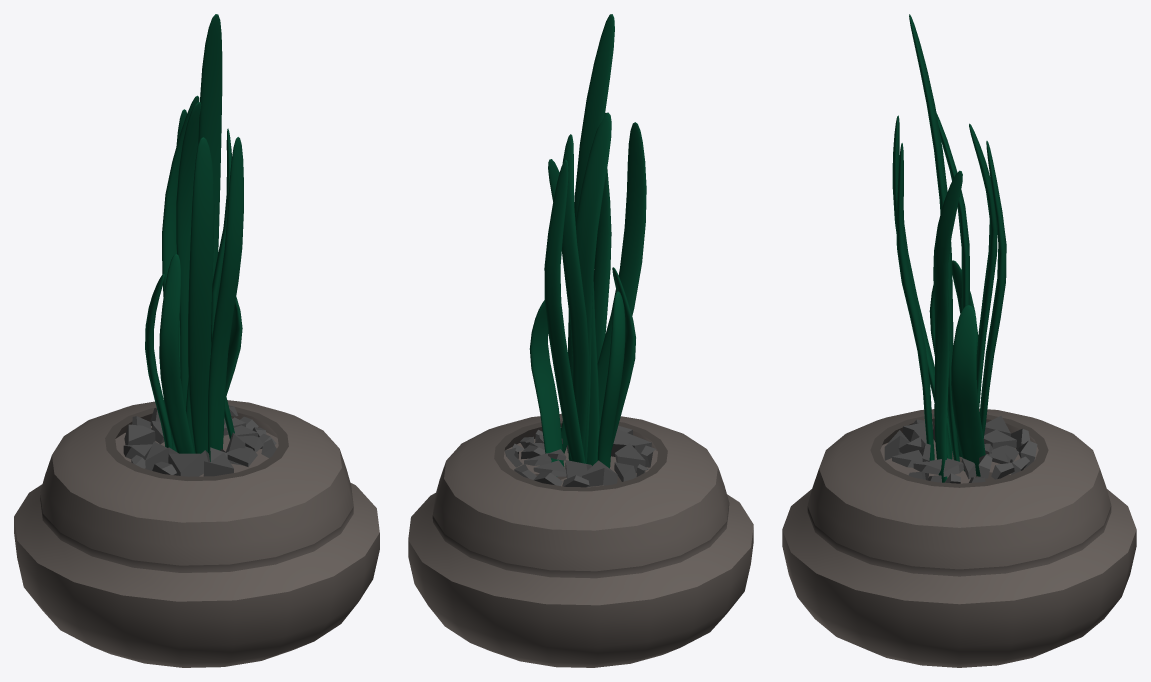
The model's file is largeplant.fbx.
3 renders of one model, left to right at view 1: azimuth 30°, elevation 25°; view 2: azimuth 150°, elevation 25°; view 3: azimuth 270°, elevation 25°, orthographic. The views are drawn at different scales.
Visible parts, largest first — view 1: Large_Plant, PlantLeaf10, PlantLeaf9, PlantLeaf7, PlantLeaf4, PlantLeaf3, PlantLeaf2, PlantLeaf8, PlantLeaf6, PlantLeaf5, Rock3, Rock; view 2: Large_Plant, PlantLeaf1, PlantLeaf3, PlantLeaf10, PlantLeaf4, PlantLeaf2, PlantLeaf5, PlantLeaf8, PlantLeaf9, PlantLeaf7, Rock, Rock3; view 3: Large_Plant, PlantLeaf6, PlantLeaf5, PlantLeaf9, PlantLeaf4, PlantLeaf1, PlantLeaf2, PlantLeaf10, PlantLeaf3.
Part boxes in pixels (x1=…): Large_Plant: x1=14, y1=400, x2=379, y2=667; PlantLeaf10: x1=188, y1=137, x2=214, y2=453; PlantLeaf9: x1=207, y1=137, x2=243, y2=461; PlantLeaf7: x1=159, y1=254, x2=194, y2=453; PlantLeaf4: x1=185, y1=14, x2=222, y2=453; PlantLeaf3: x1=176, y1=102, x2=201, y2=409; PlantLeaf2: x1=162, y1=95, x2=199, y2=375; PlantLeaf8: x1=145, y1=273, x2=172, y2=449; PlantLeaf6: x1=211, y1=128, x2=234, y2=439; PlantLeaf5: x1=225, y1=297, x2=242, y2=395; Rock3: x1=168, y1=450, x2=209, y2=476; Rock: x1=124, y1=424, x2=155, y2=445; Large_Plant: x1=408, y1=413, x2=753, y2=667; PlantLeaf1: x1=544, y1=160, x2=585, y2=463; PlantLeaf3: x1=568, y1=112, x2=611, y2=463; PlantLeaf10: x1=597, y1=122, x2=646, y2=430; PlantLeaf4: x1=574, y1=14, x2=614, y2=465; PlantLeaf2: x1=562, y1=134, x2=589, y2=460; PlantLeaf5: x1=529, y1=300, x2=564, y2=476; PlantLeaf8: x1=597, y1=291, x2=625, y2=468; PlantLeaf9: x1=593, y1=168, x2=611, y2=363; PlantLeaf7: x1=611, y1=267, x2=635, y2=449; Rock: x1=582, y1=460, x2=617, y2=487; Rock3: x1=611, y1=429, x2=651, y2=456; Large_Plant: x1=782, y1=408, x2=1136, y2=667; PlantLeaf6: x1=933, y1=170, x2=962, y2=482; PlantLeaf5: x1=951, y1=305, x2=985, y2=476; PlantLeaf9: x1=896, y1=143, x2=934, y2=460; PlantLeaf4: x1=909, y1=14, x2=959, y2=461; PlantLeaf1: x1=979, y1=141, x2=1006, y2=437; PlantLeaf2: x1=969, y1=123, x2=997, y2=408; PlantLeaf10: x1=892, y1=115, x2=951, y2=459; PlantLeaf3: x1=936, y1=112, x2=969, y2=471.
Size of the model in its own units: 3.8 by 7.14 by 3.8.
